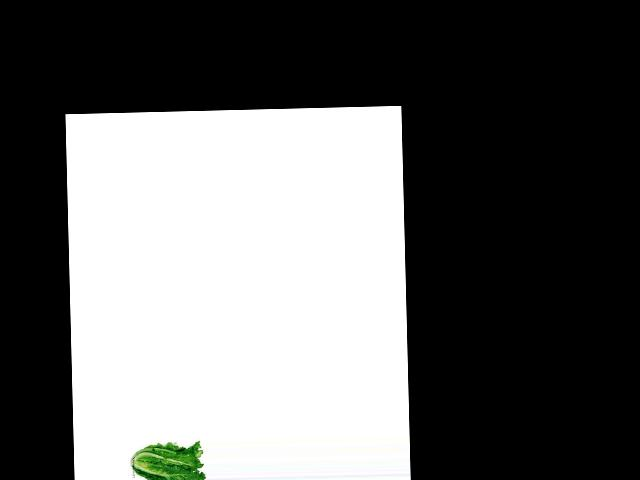lettuce: (132, 439, 206, 480)
